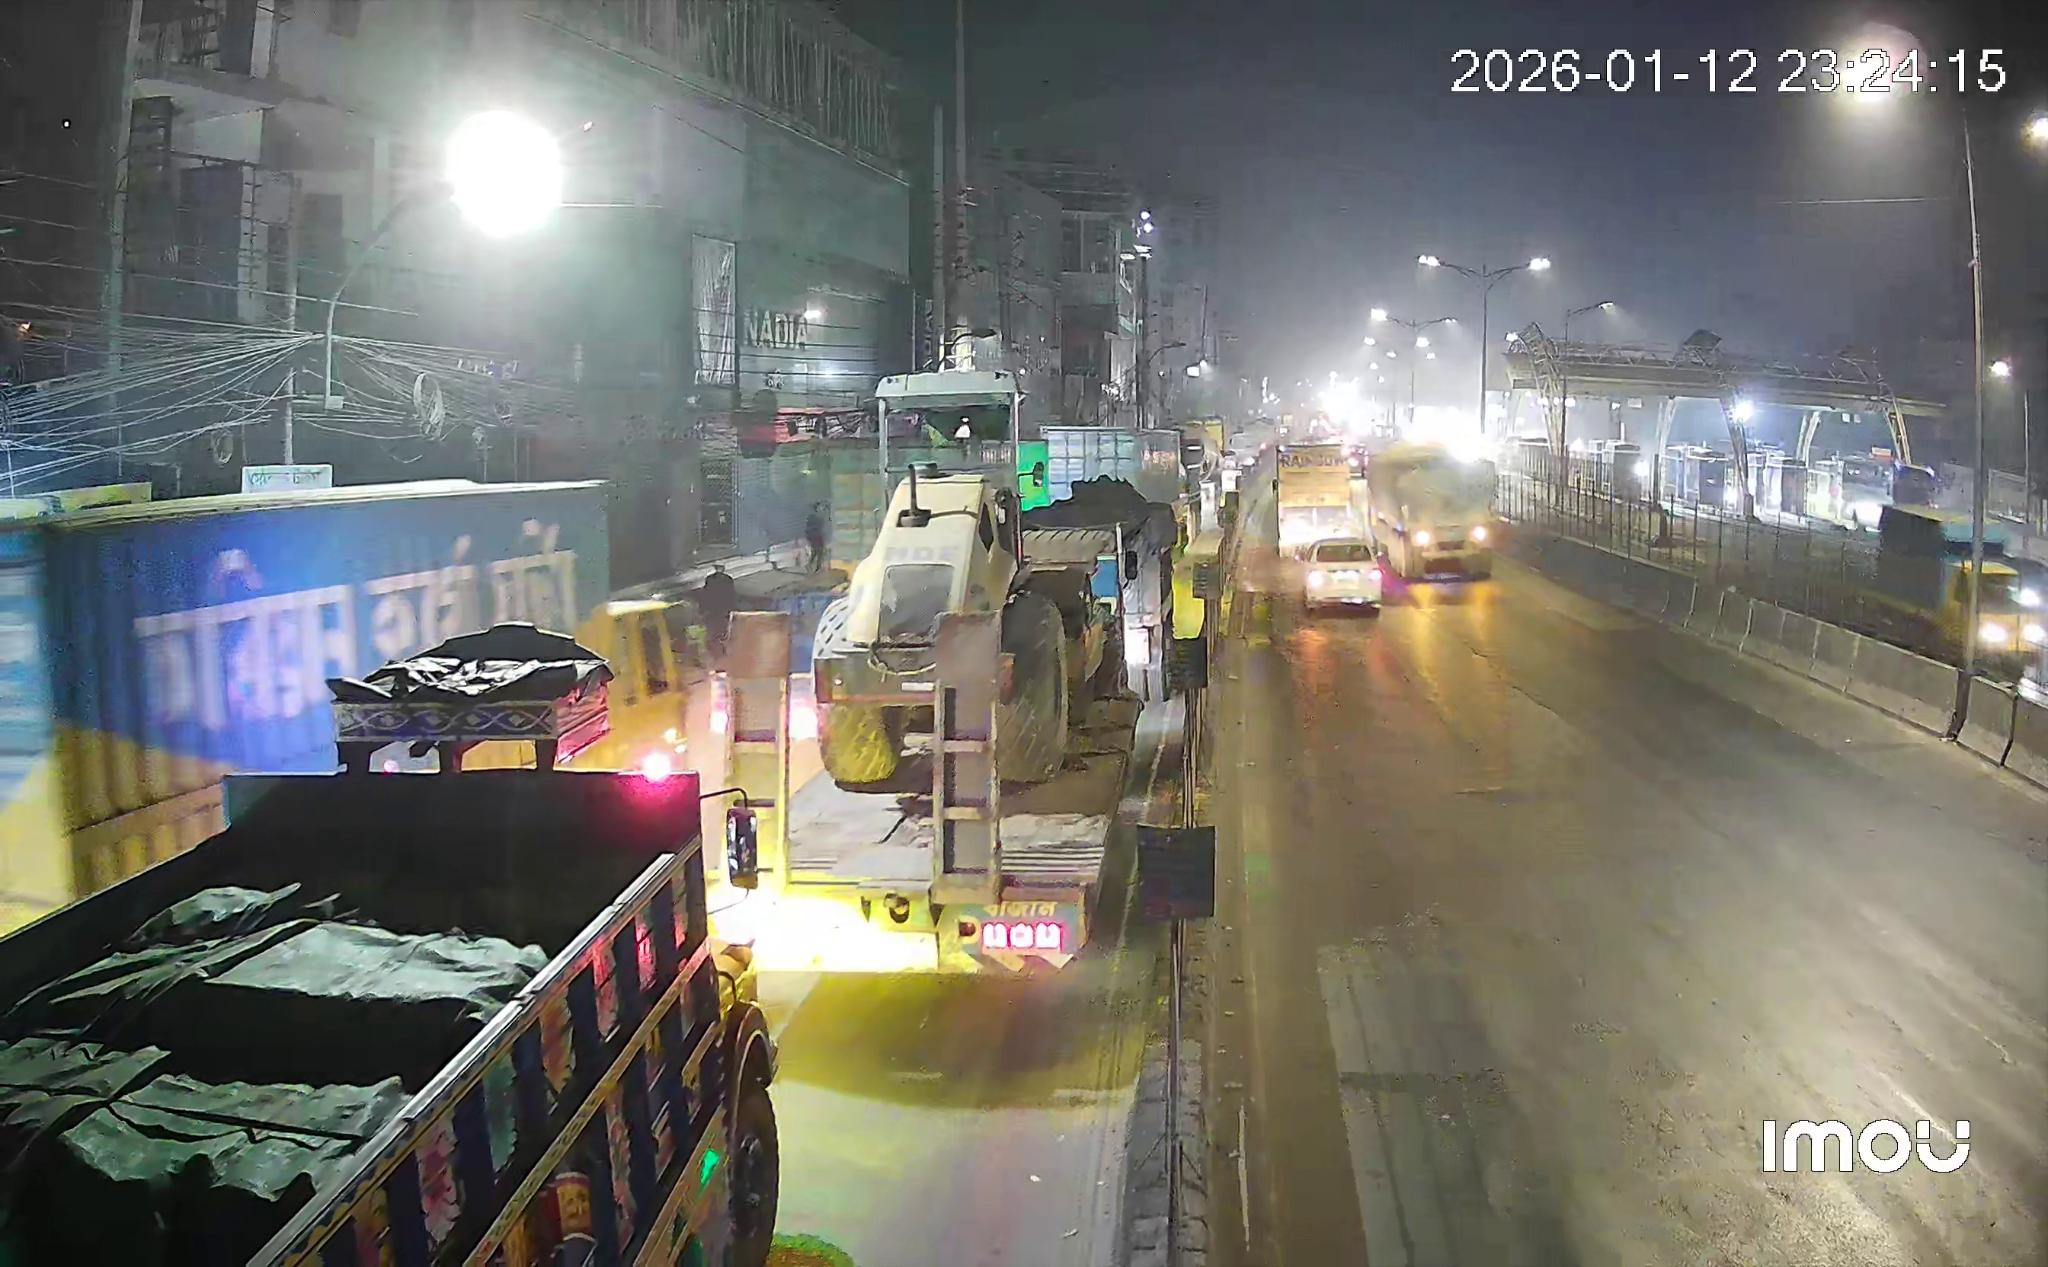Private-Sedan Car: (1300, 535, 1382, 614)
Truck: (0, 625, 777, 1267), (0, 480, 723, 933), (726, 372, 1178, 974), (1858, 503, 2030, 670), (1366, 442, 1495, 579), (1277, 443, 1350, 556)
